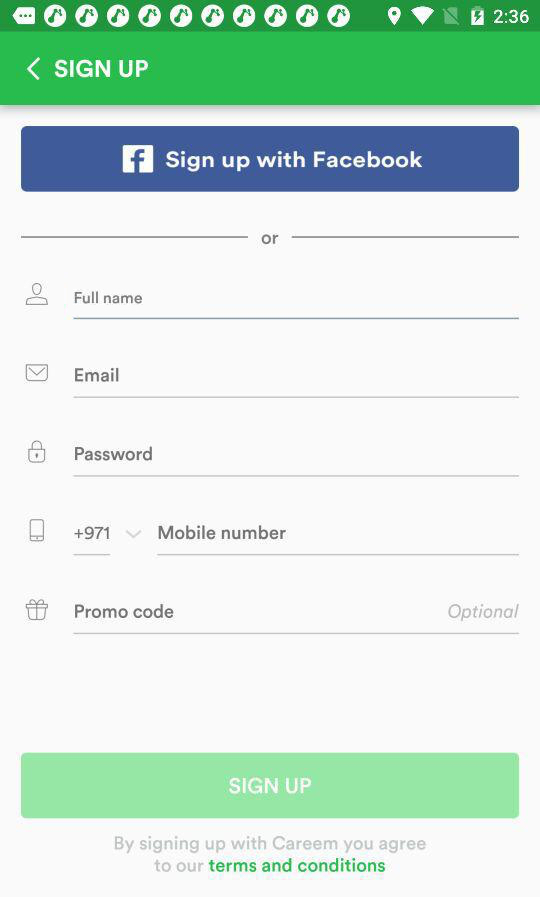EditText: (73, 603, 521, 635), (73, 446, 520, 478), (73, 367, 519, 399), (73, 291, 519, 321), (157, 524, 519, 556), (73, 526, 113, 556)
Icon: (25, 598, 51, 623), (26, 283, 50, 306), (26, 363, 50, 383), (28, 440, 47, 464), (26, 57, 42, 82), (125, 530, 142, 539)
Image: (30, 518, 46, 543)
Text: (108, 832, 433, 876), (159, 524, 287, 540), (55, 59, 150, 79), (76, 603, 175, 619), (448, 603, 521, 622), (75, 446, 153, 462), (75, 291, 143, 305), (75, 367, 120, 383), (74, 526, 111, 541), (261, 234, 280, 246)
TextButton: (21, 752, 520, 819), (21, 126, 520, 193)
Toolbar: (1, 33, 540, 106)
UpperTaskBar: (1, 1, 540, 33)
